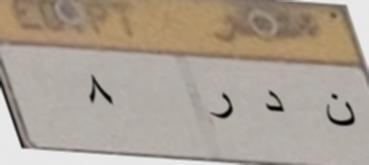8: (80, 68, 118, 112)
daal: (256, 84, 287, 120)
noon: (320, 91, 359, 131)
raa: (210, 88, 243, 126)
